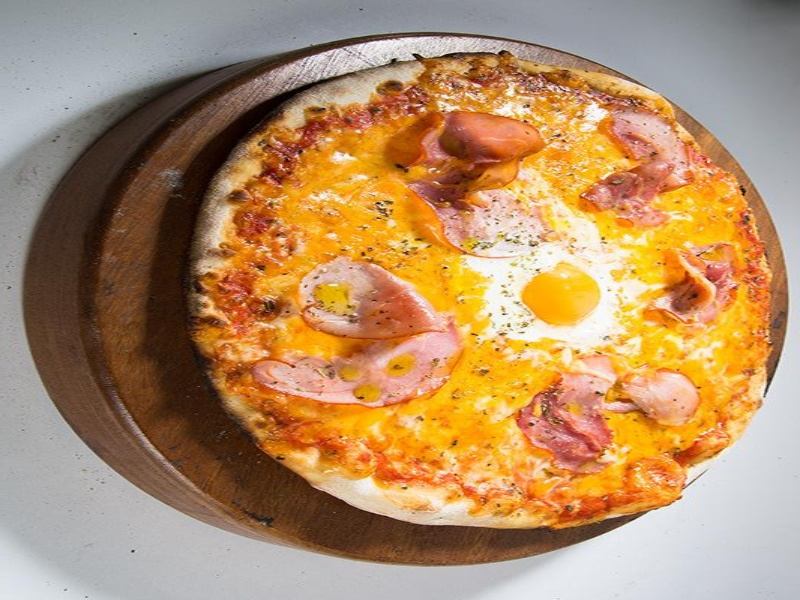oeuf: (509, 247, 614, 336)
